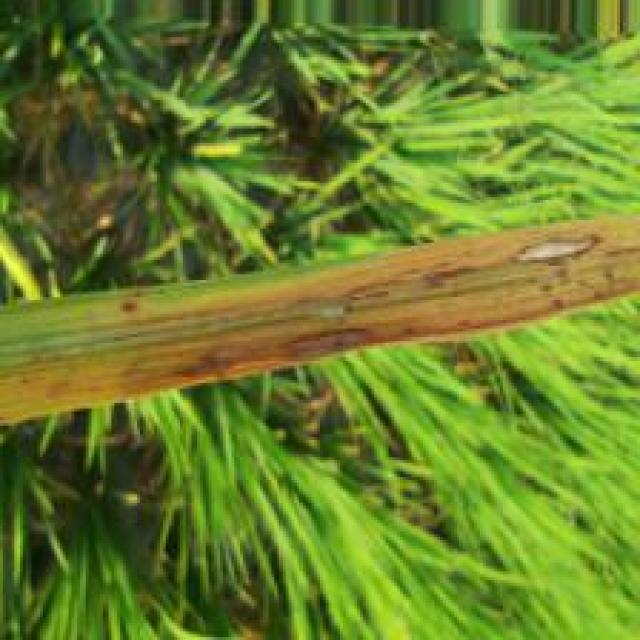Rice Tungro: (272, 324, 379, 365), (510, 232, 603, 265), (157, 357, 238, 383), (414, 262, 480, 293)
